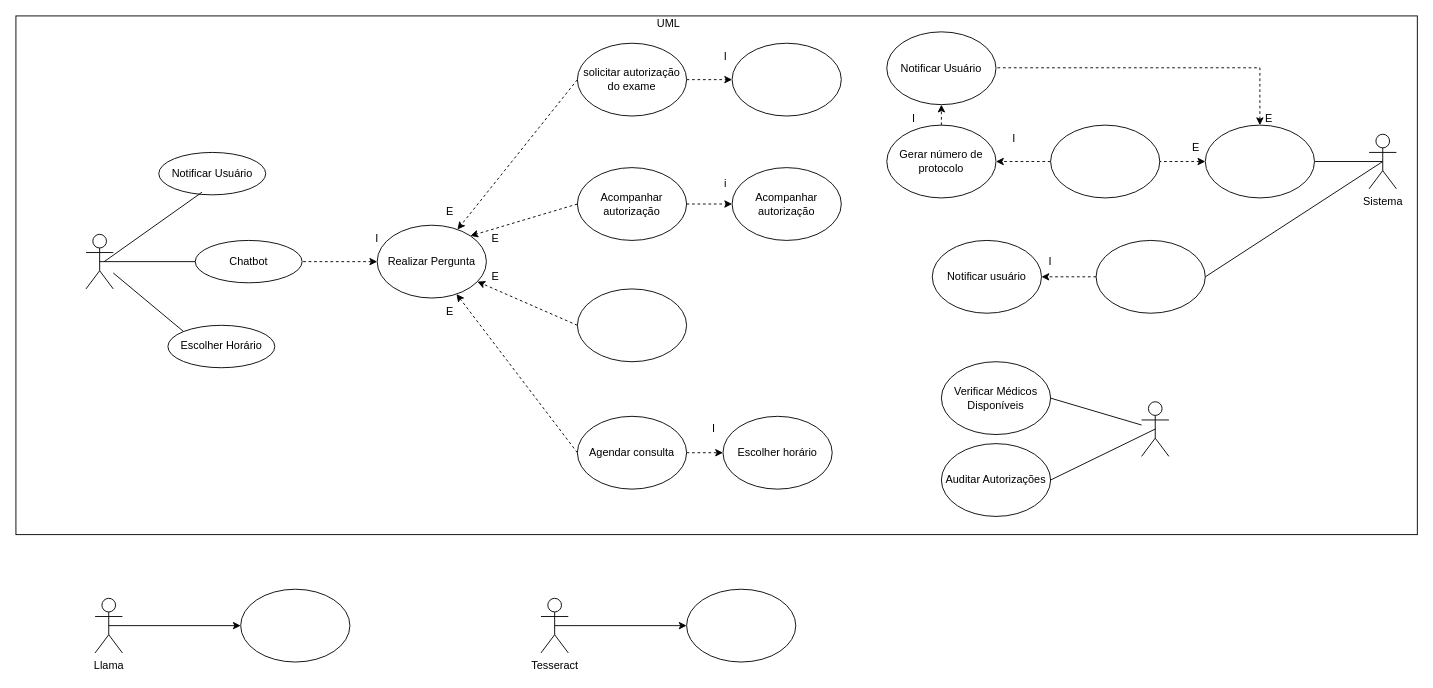
Image size: 1433x688. Some labels were removed from this diagram. The centre of each missing label's shape, as x and y in pixels:
"Beneficiário" goes at point 99,261.
"Consultar agenda médica" goes at point 1150,276.
"Converter imagens em texto" goes at point 741,625.
"Gerar respostas" goes at point 295,625.
"Instituição" goes at point 1155,428.
"Realizar pergunta aberta" goes at point 631,325.
"Realizar upload do exame" goes at point 786,79.
"Registrar autorização" goes at point 1105,161.
"Verificar autorização" goes at point 1259,161.
